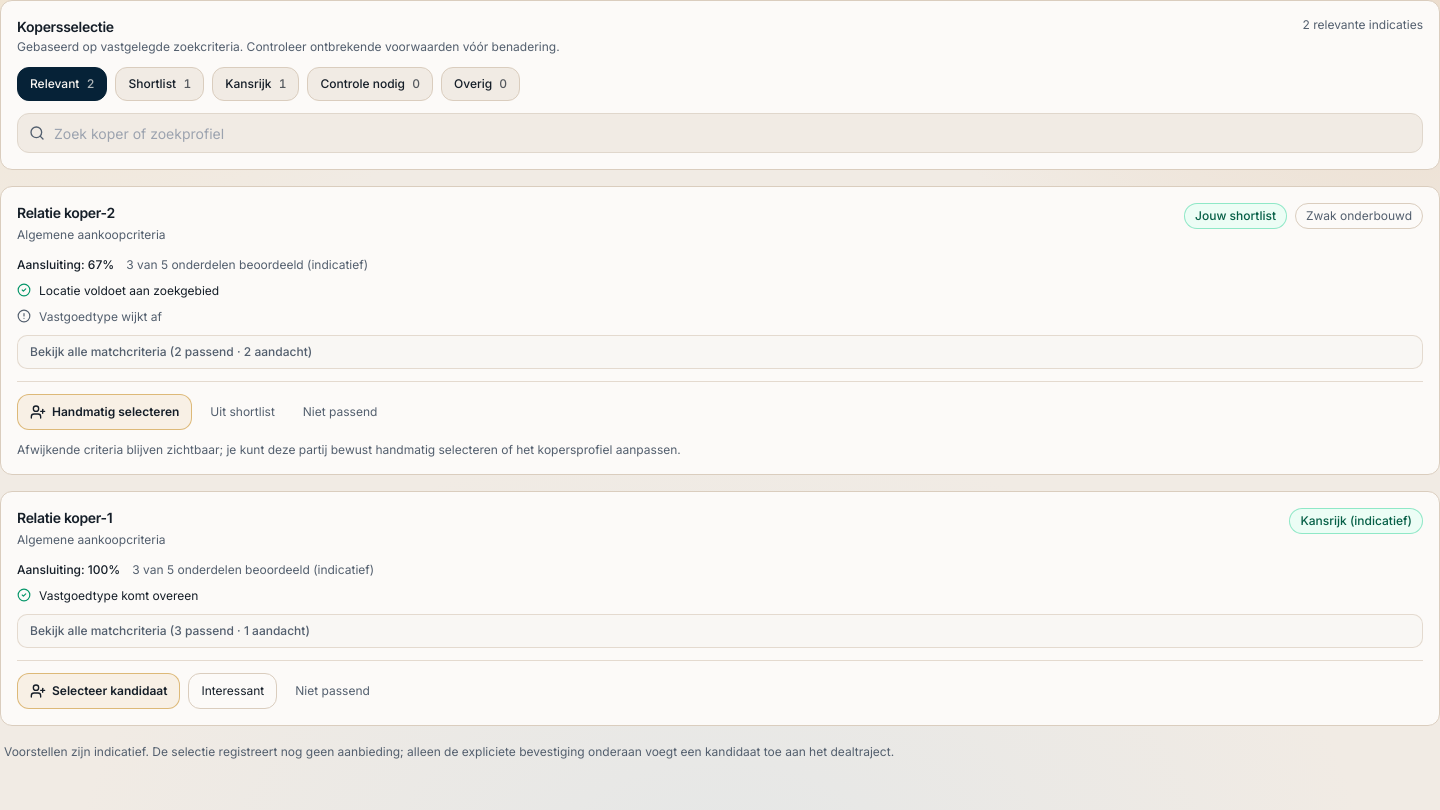
Test: Handmatige keuze en terugkeer vanuit kopersprofiel › biedt een eigen shortlistfilter zonder afwijzing bij verwijderen
Later steps or results of the test are not shown.
Step 1. Click the button "Shortlist 1" → [160, 84], box 115,67 -> 204,101
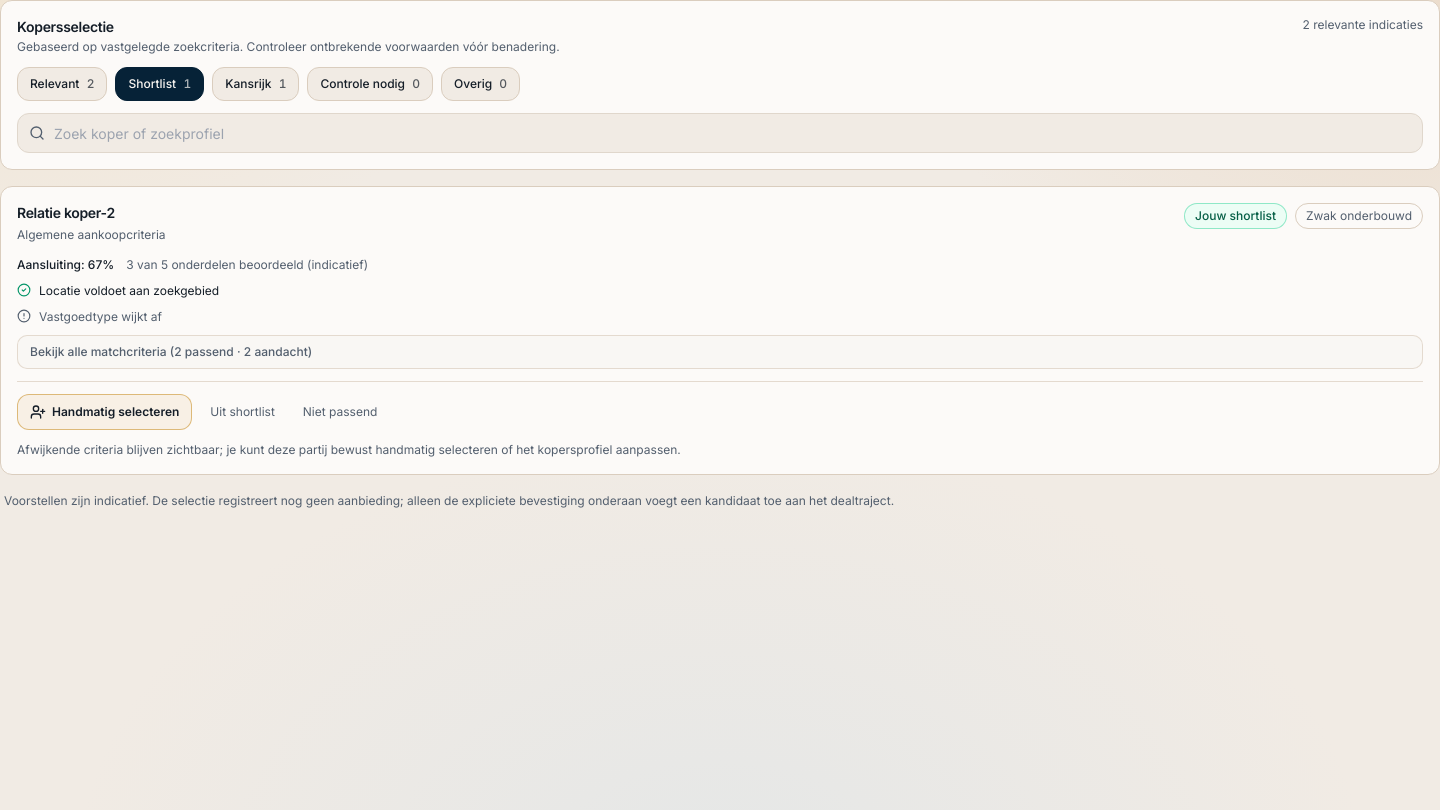
Now the number of elements with test id "match-kandidaat-kaart" is 1, box 0,186 -> 1439,475
